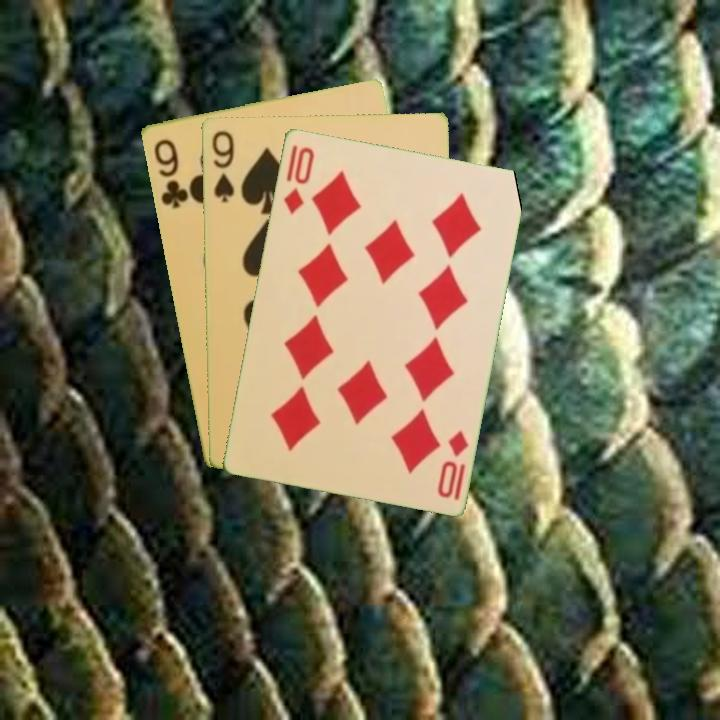10d: (433, 426, 471, 503), (279, 143, 317, 216)
9c: (150, 135, 191, 211)
9s: (208, 127, 237, 205)
